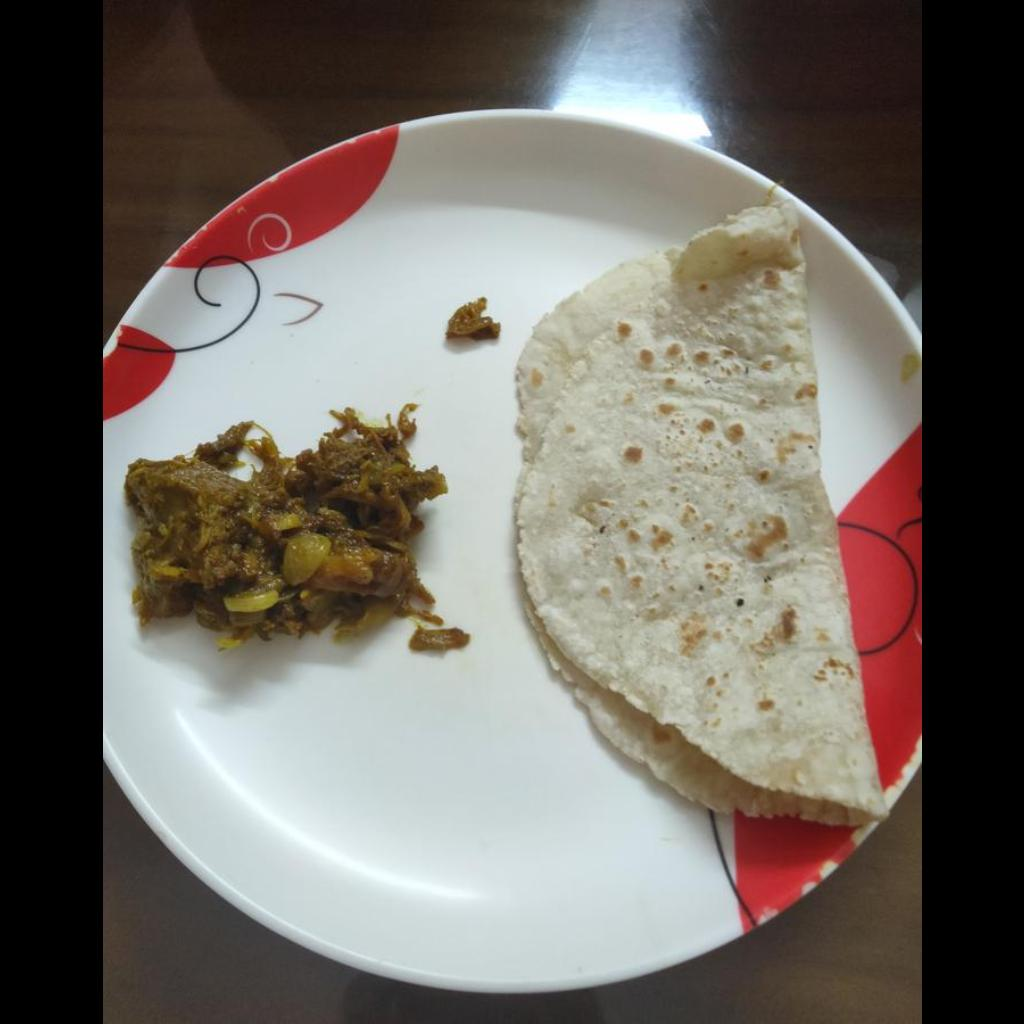achar: (124, 404, 465, 651)
ruti: (509, 201, 888, 821)
